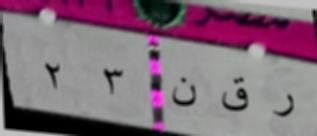2: (38, 58, 66, 95)
3: (100, 61, 134, 103)
noon: (167, 73, 207, 111)
qaaf: (216, 71, 255, 118)
raa: (271, 82, 299, 126)
